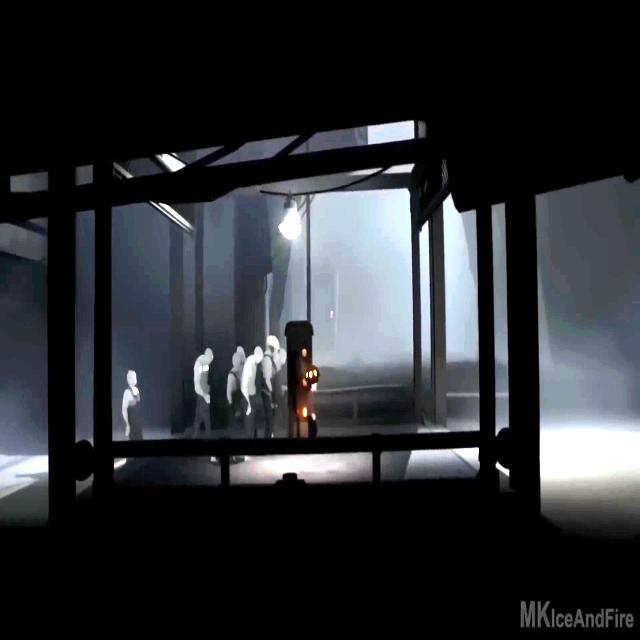boy: (306, 382, 318, 438)
zombie: (194, 347, 218, 462), (240, 345, 264, 438), (122, 370, 144, 440), (265, 337, 280, 437), (227, 352, 240, 438)
